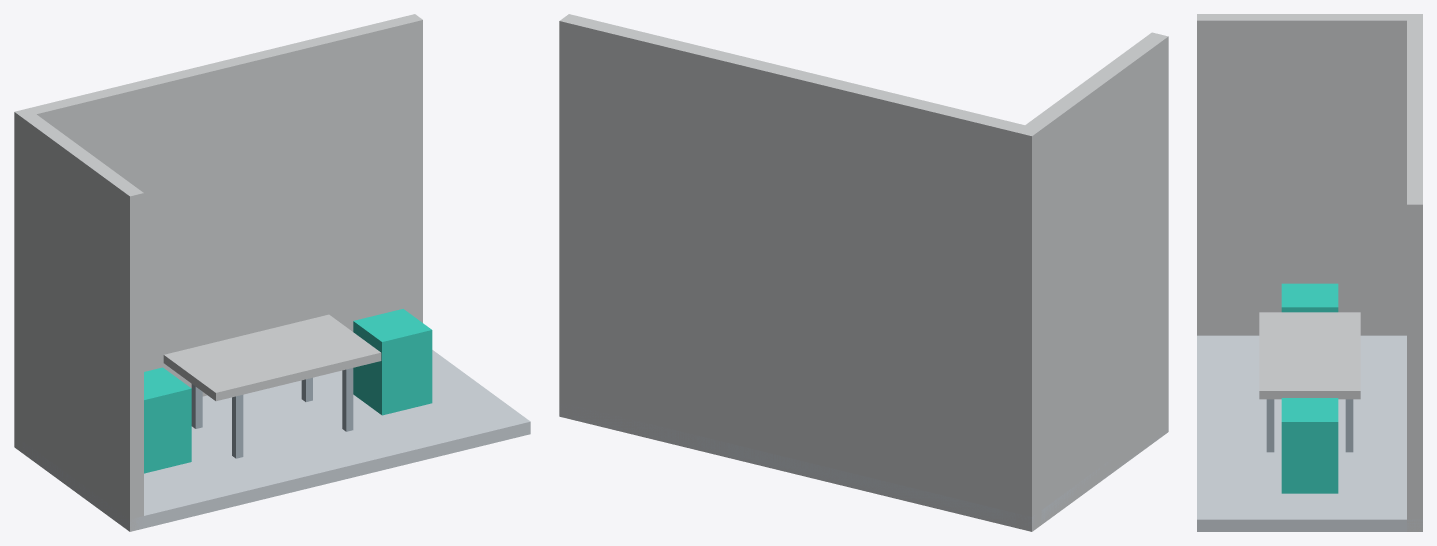
3 views of the same model, side by side, from view 1: azimuth 30°, elevation 25°; view 2: azimuth 150°, elevation 25°; view 3: azimuth 270°, elevation 25° (orthographic). The views are drawn at different scales.
Parts seen in each view (by area): view 1: Exhibition Booth Concept; view 2: Exhibition Booth Concept; view 3: Exhibition Booth Concept.
Part boxes in pixels (x1,y1,x2,y2): Exhibition Booth Concept: [14, 14, 530, 531]; Exhibition Booth Concept: [559, 14, 1168, 531]; Exhibition Booth Concept: [1197, 14, 1422, 531].
Size of the model in its own units: 4 by 3.2 by 2.
